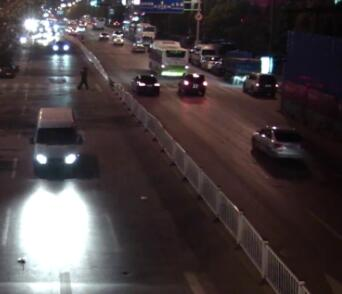bus: (145, 38, 189, 78), (130, 20, 155, 41), (91, 14, 107, 30), (121, 19, 132, 36)
car: (28, 105, 85, 176), (249, 124, 308, 163), (220, 47, 262, 82), (240, 71, 279, 98), (176, 72, 208, 97), (128, 73, 161, 97), (188, 42, 215, 67), (201, 53, 219, 72), (51, 38, 71, 55), (130, 39, 146, 51), (111, 35, 125, 45), (111, 28, 125, 38), (98, 30, 110, 40), (76, 19, 88, 29), (68, 24, 78, 36)
